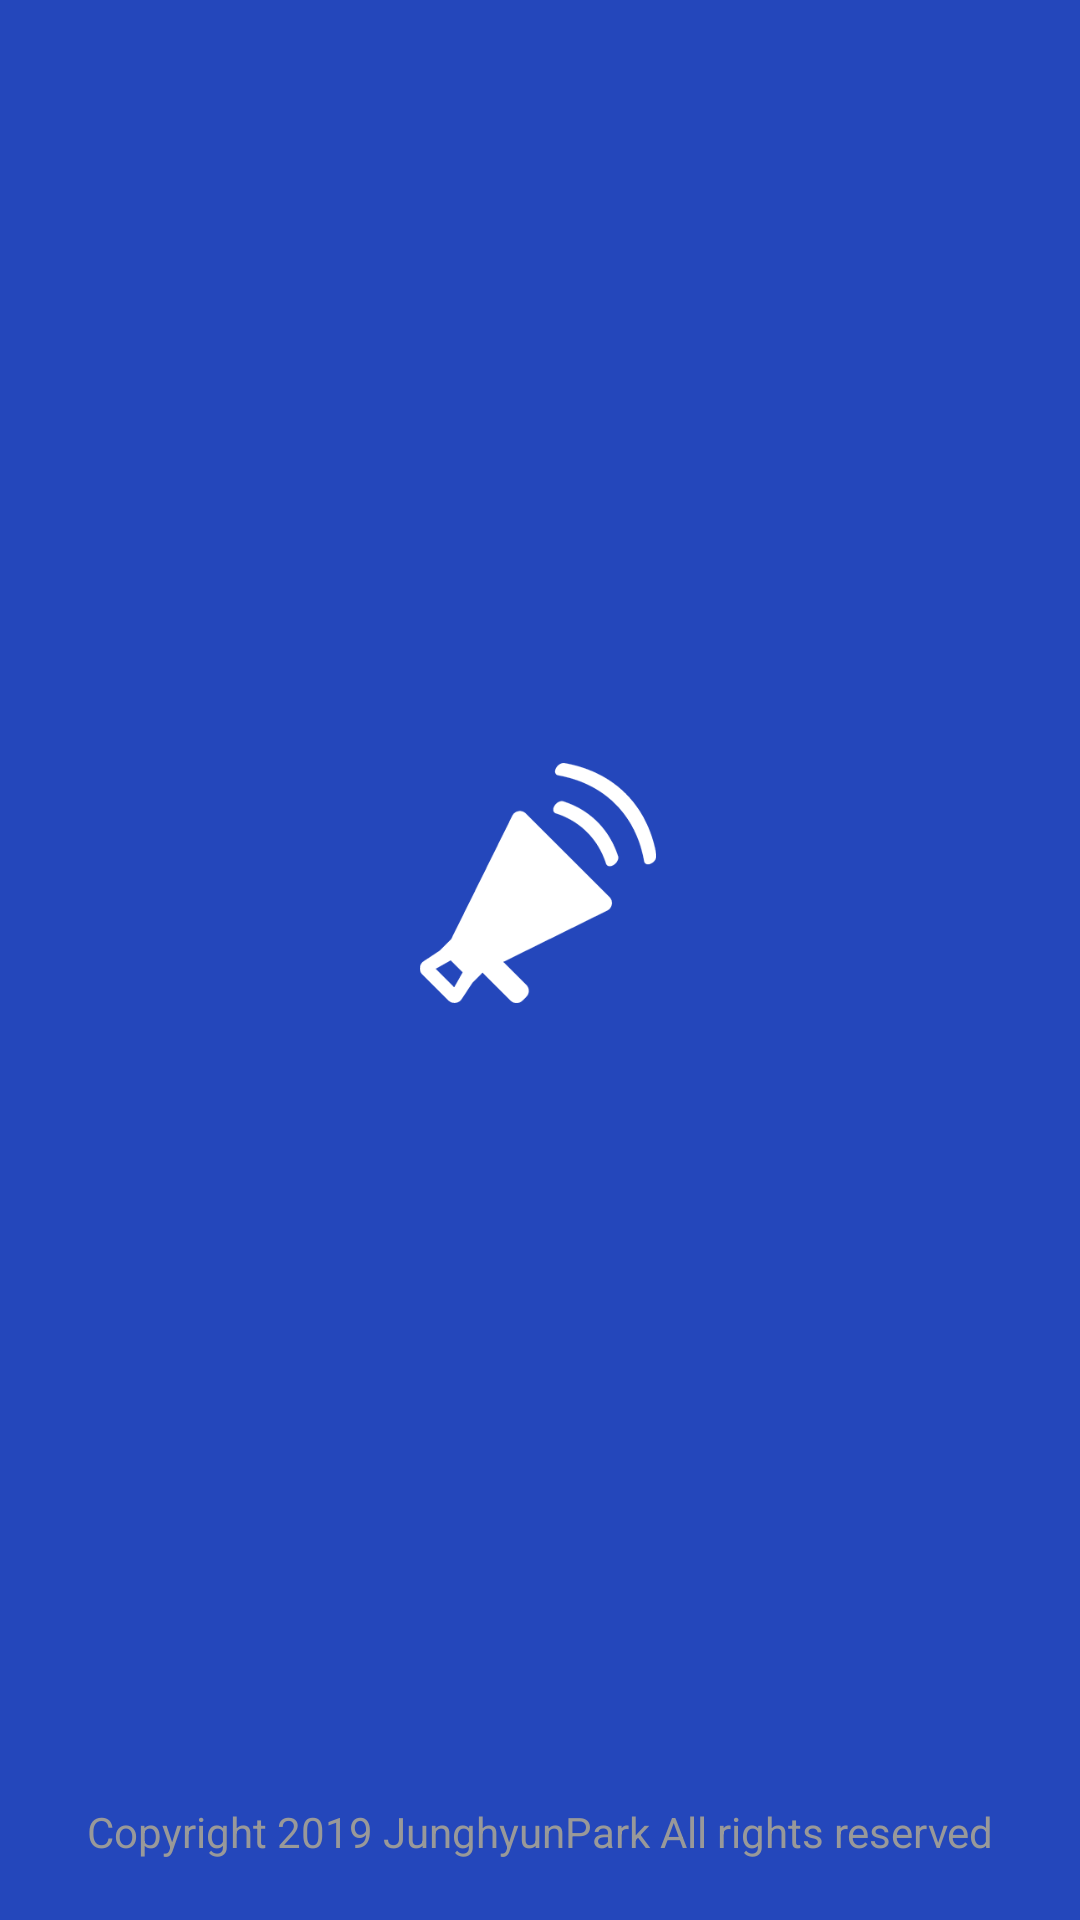

Point at icon controls on the screen. Image size 1080*1920, points as point (x, y).
noti display: point (538, 883)
